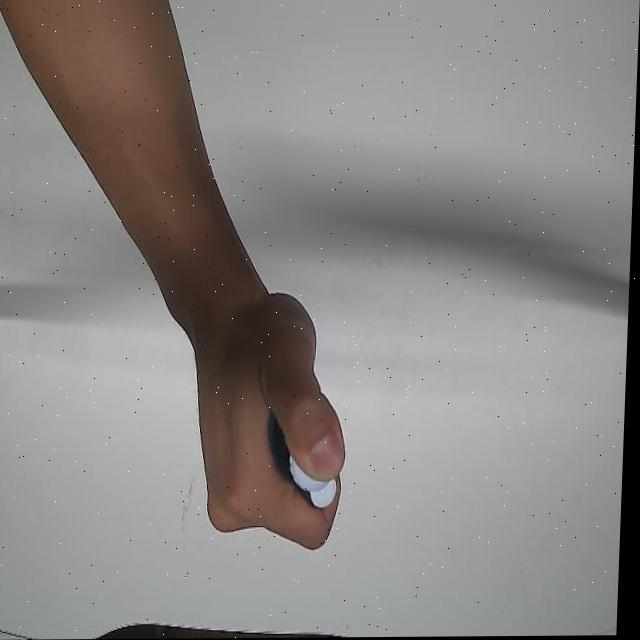Single Channel Pipettor: (270, 376, 349, 514)
